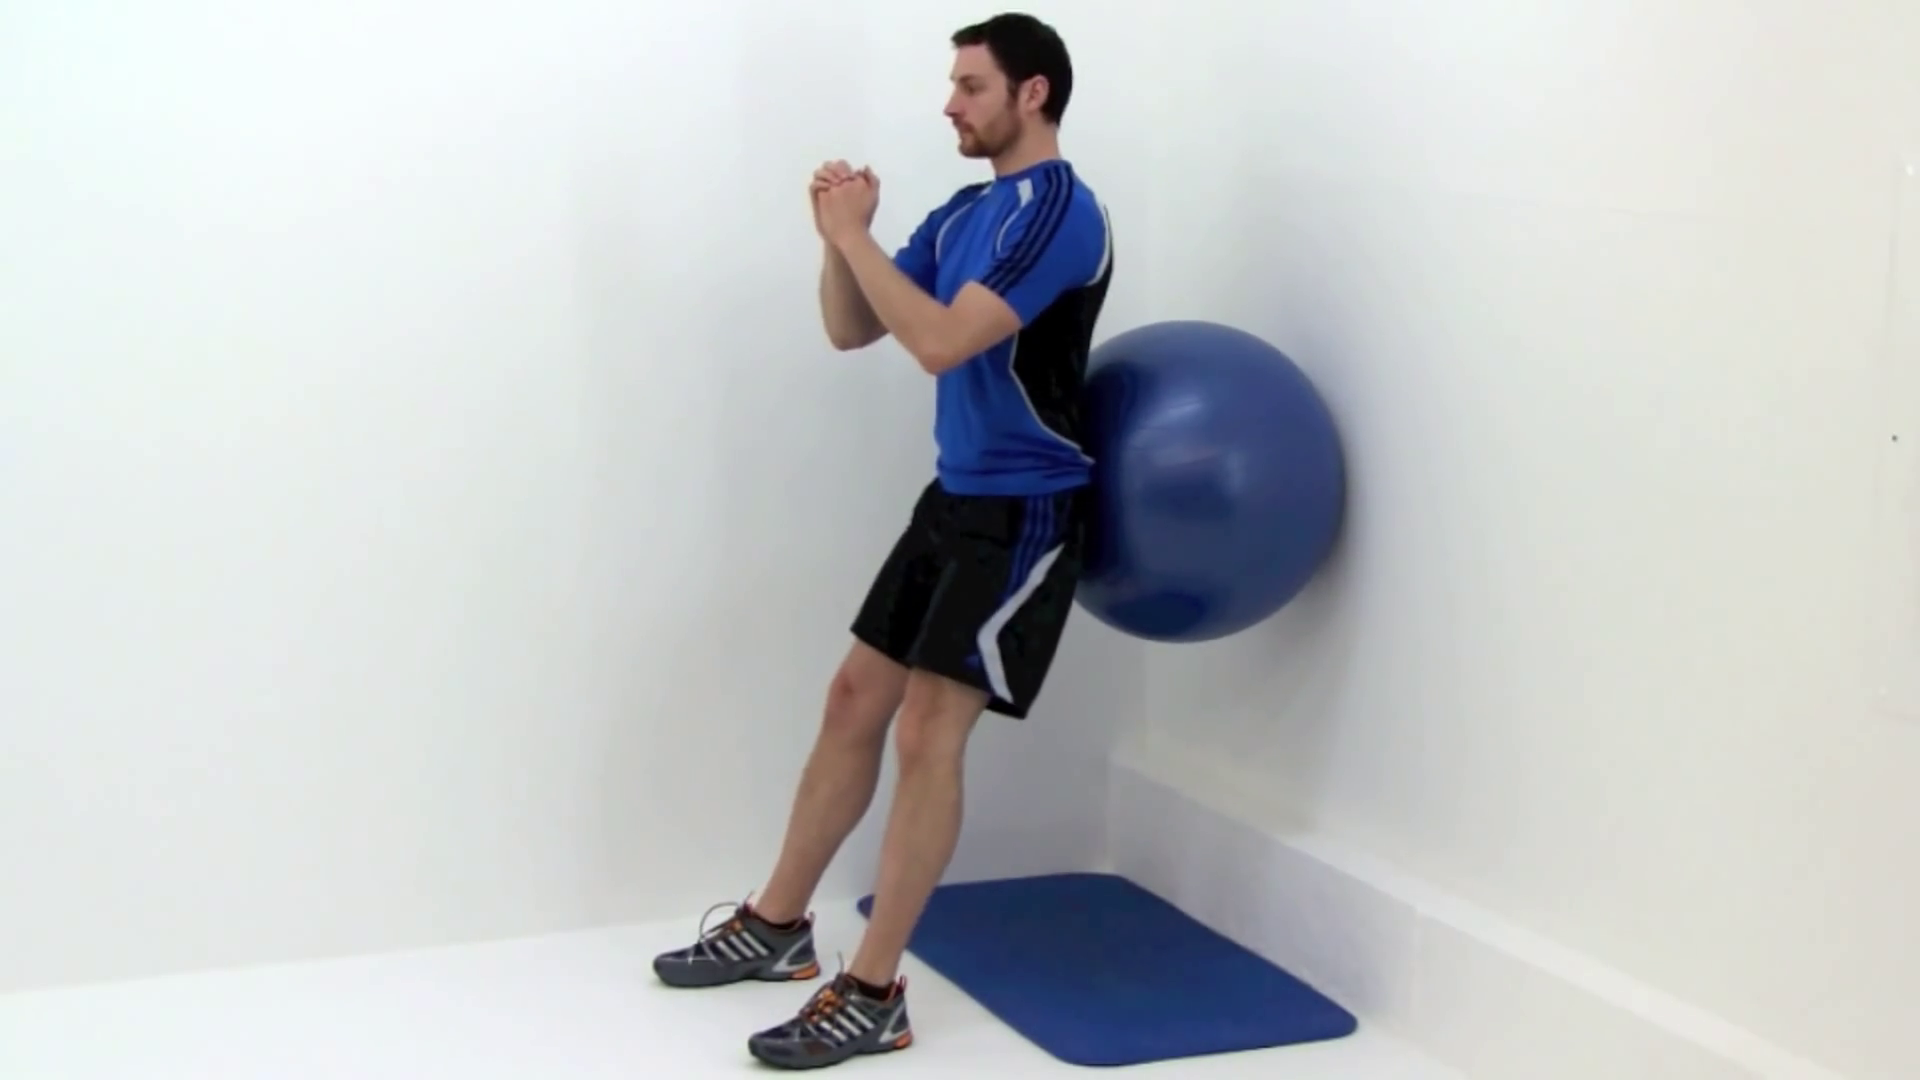yogaball: (1058, 297, 1367, 654)
